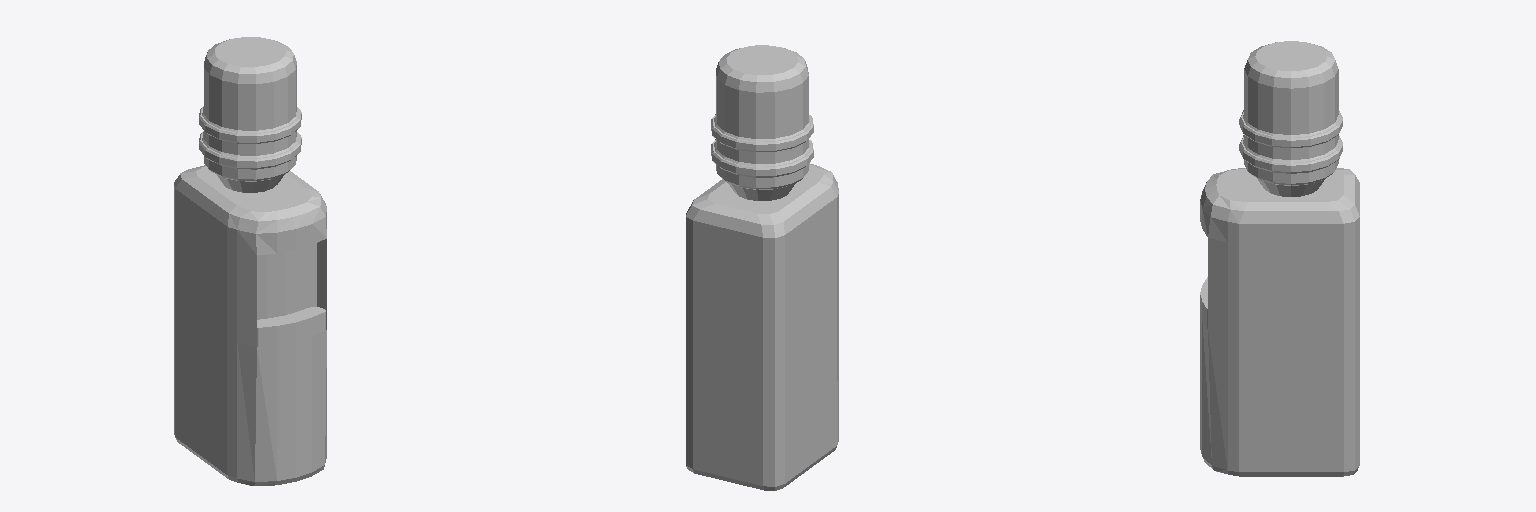
File: waterF.obj
3 views of the same model, side by side, from view 1: azimuth 30°, elevation 25°; view 2: azimuth 150°, elevation 25°; view 3: azimuth 270°, elevation 25° (orthographic).
Visible parts, largest first — view 1: Prop_WaterDispenser; view 2: Prop_WaterDispenser; view 3: Prop_WaterDispenser.
Part boxes in pixels (bbox=[...]): Prop_WaterDispenser: bbox=[174, 37, 326, 485]; Prop_WaterDispenser: bbox=[686, 45, 838, 490]; Prop_WaterDispenser: bbox=[1200, 41, 1359, 476].
Bounding box in the file's own units: 0.5185 × 2.02 × 0.7317.